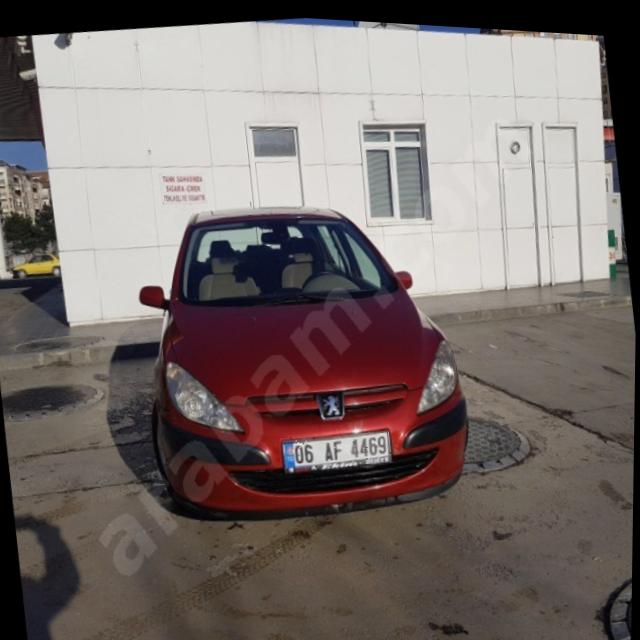license_plate: (281, 421, 393, 470)
